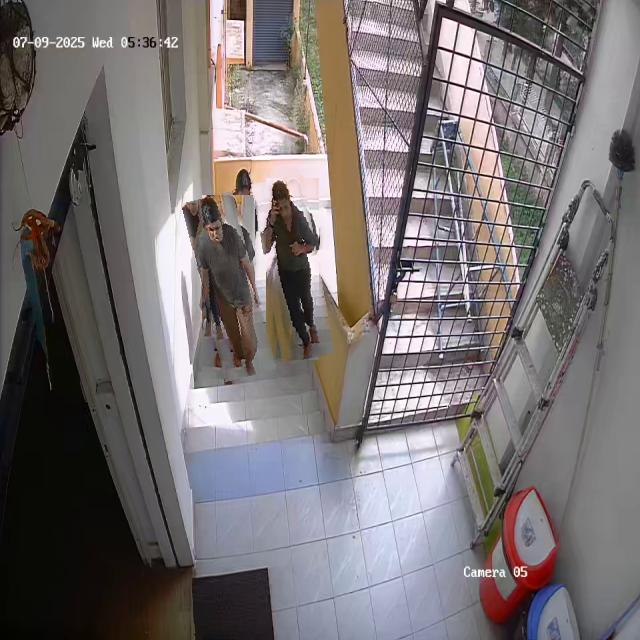person: (192, 193, 265, 381), (258, 177, 326, 362)
